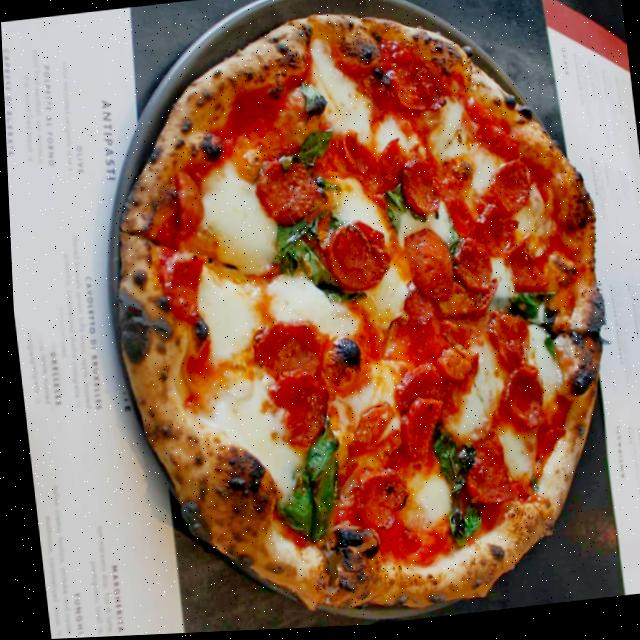basil: (266, 215, 366, 319), (262, 429, 344, 549), (423, 428, 495, 556), (497, 294, 550, 346), (276, 132, 332, 178), (301, 89, 322, 115), (384, 195, 398, 208), (387, 214, 394, 226)
pepperoni: (264, 368, 337, 454), (324, 220, 393, 308), (331, 400, 403, 478), (247, 320, 330, 382), (453, 435, 517, 511), (253, 165, 319, 231), (343, 470, 408, 536), (398, 231, 451, 309), (388, 399, 448, 467), (492, 369, 546, 434), (473, 202, 521, 269), (482, 313, 530, 378), (393, 290, 450, 344), (443, 270, 495, 328), (333, 128, 380, 191), (486, 159, 532, 219), (501, 239, 545, 301), (400, 161, 442, 221), (392, 365, 446, 408), (367, 140, 405, 200), (456, 248, 489, 287)
pizza: (53, 14, 604, 638)
